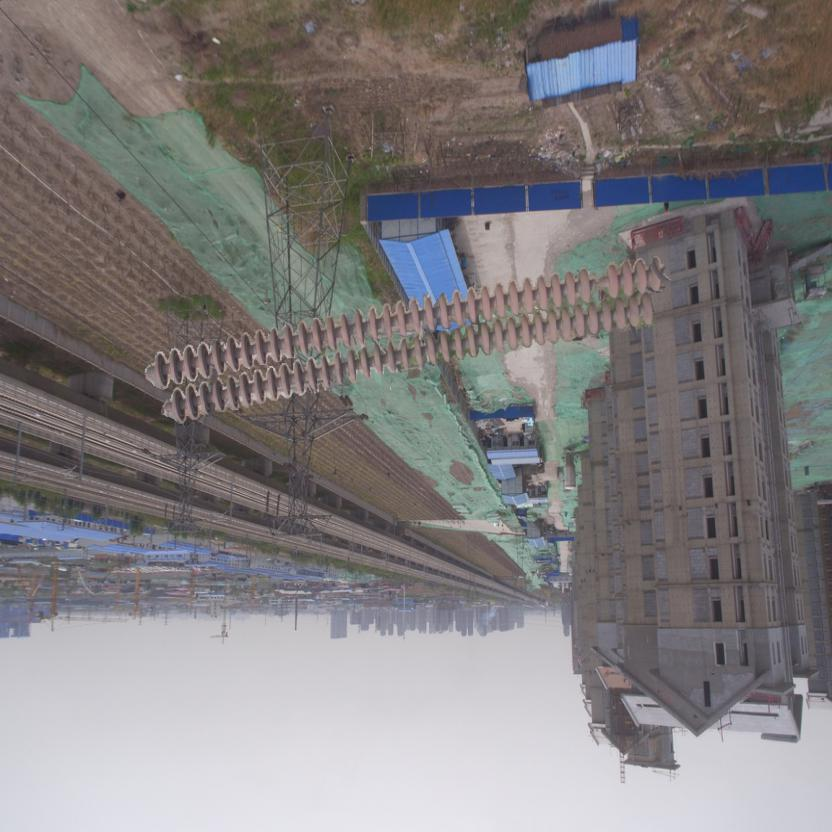defect: (576, 261, 622, 305)
